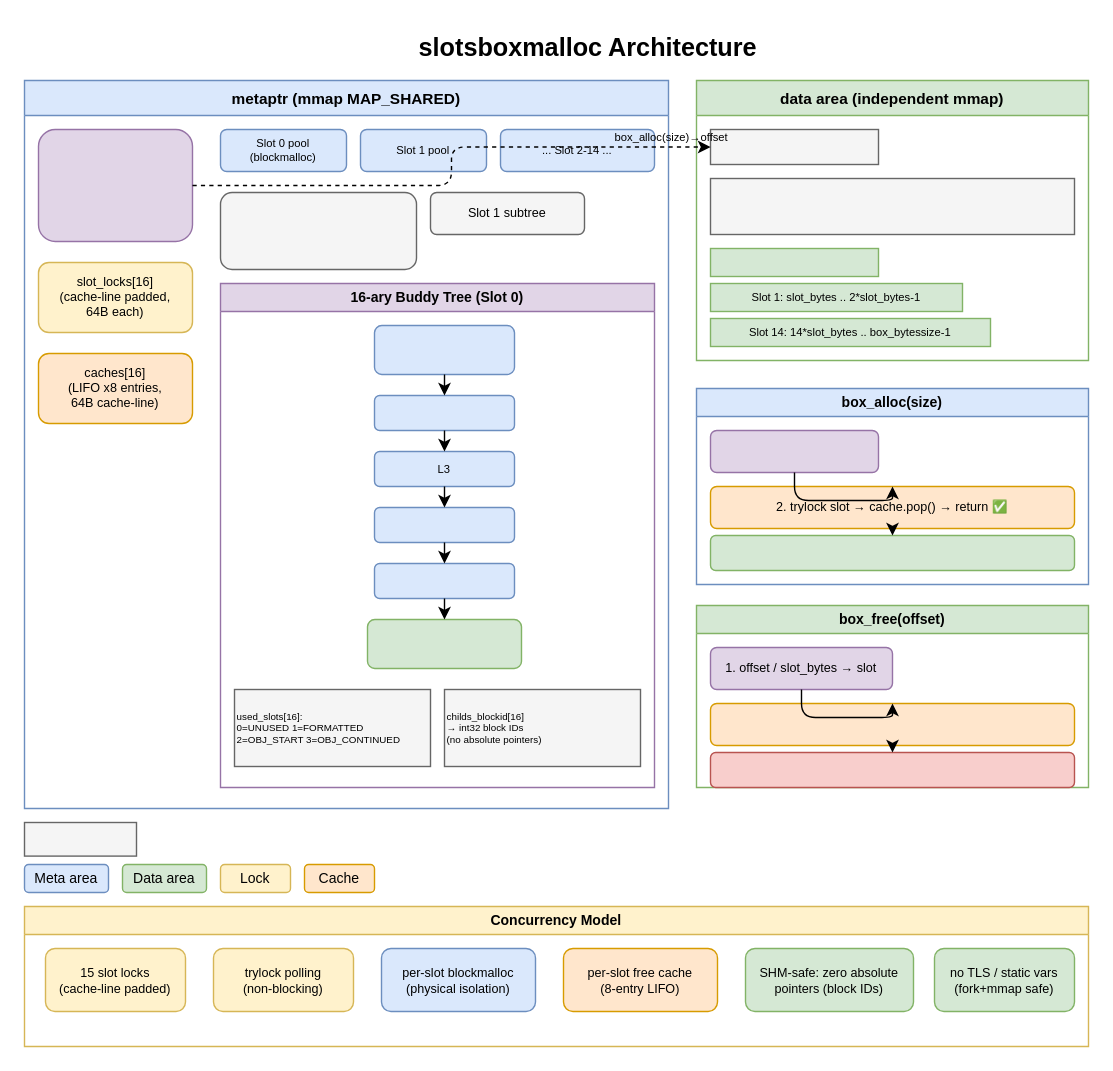
Image size: 1113x1071. Some labels were removed from this diagram. The centre of each missing label's shape, as x and y in pixels:
1. hash size→start slot: the point at 793,450
2. cache.push(offset) → return ✅: the point at 891,724
3. cache full → flush oldest → tree.free(): the point at 891,769
3. cache miss → tree.find_alloc() → return: the point at 891,552
box_meta_t magic[16] slot_block[16] slot_locks[16] caches[16]: the point at 114,184
L0 leaf (obj slots: 8B each): the point at 444,643
L1: the point at 443,580
L2: the point at 443,524
L4: the point at 443,412
L5 root (level=5, 16 slots): the point at 443,349
Legend: the point at 79,838
obj data (8B..4096B) pure bytes, no metadata: the point at 891,205
offset 0: the point at 793,146
Slot 0 subtree box_head_t nodes (128B each, cache-line aligned): the point at 317,230
Slot 0: 0 .. slot_bytes-1: the point at 793,261
